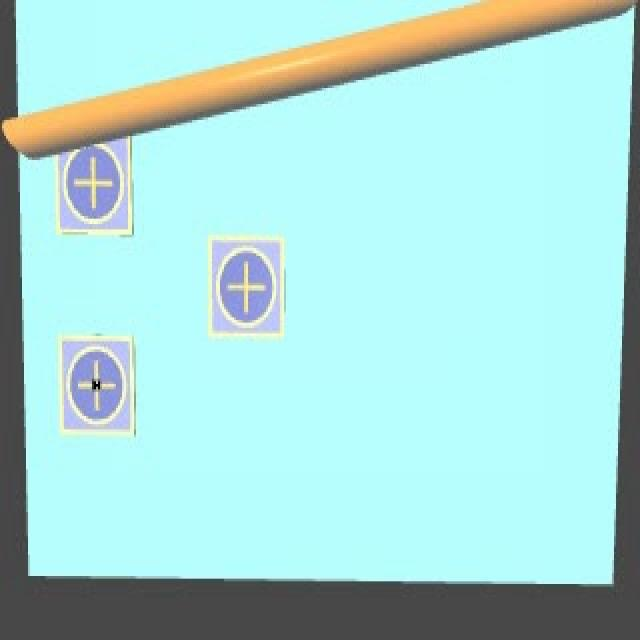Yellow-crosses: (66, 154, 121, 216), (74, 356, 122, 415), (226, 265, 273, 318)
